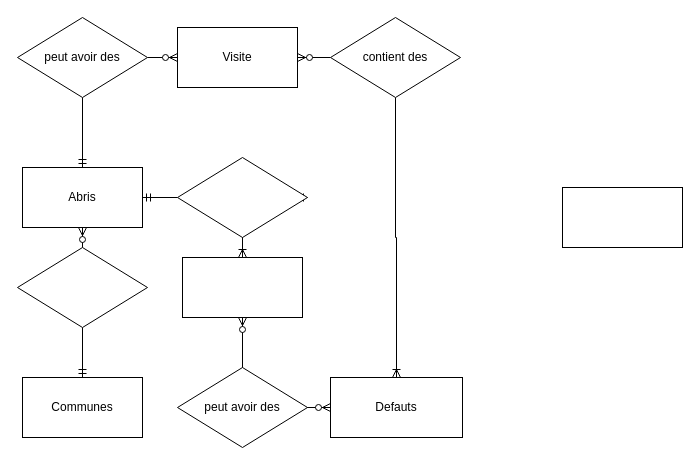
Image size: 700x465. Some labels were removed from this diagram. Here are the shapes that lost their labels. From the top down, the centre of each, then its label:
pixel 242 197: contient une
pixel 622 217: Utilisateurs
pixel 82 287: accueil un
pixel 242 287: Pieces
